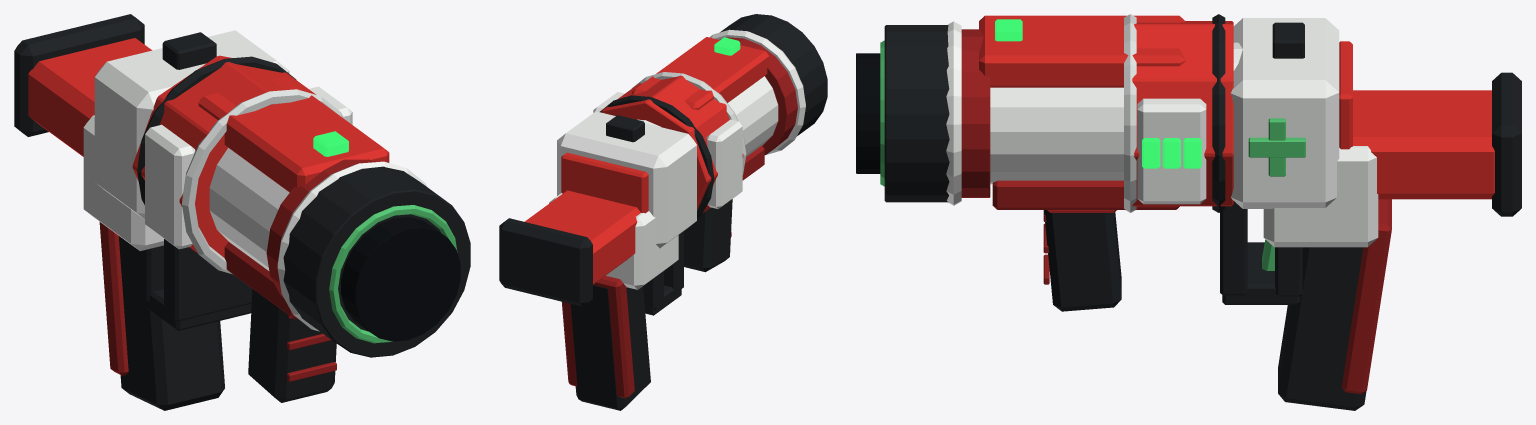
Rendered from MedicineCannon.glb.
3 renders of one model, left to right at view 1: azimuth 30°, elevation 25°; view 2: azimuth 150°, elevation 25°; view 3: azimuth 270°, elevation 25°, orthographic. The views are drawn at different scales.
Parts seen in each view (by area): view 1: FTF_Tool_MedicineCannon_RedWhite_v1_Static; view 2: FTF_Tool_MedicineCannon_RedWhite_v1_Static; view 3: FTF_Tool_MedicineCannon_RedWhite_v1_Static.
Part boxes in pixels (x1=…): FTF_Tool_MedicineCannon_RedWhite_v1_Static: x1=14, y1=14, x2=470, y2=410; FTF_Tool_MedicineCannon_RedWhite_v1_Static: x1=499, y1=14, x2=827, y2=410; FTF_Tool_MedicineCannon_RedWhite_v1_Static: x1=856, y1=14, x2=1521, y2=410.
Size of the model in its own units: 0.9145 by 1.8 by 2.9.
